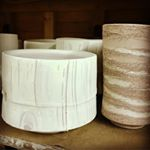cups: (1, 47, 98, 135), (99, 21, 150, 133)
